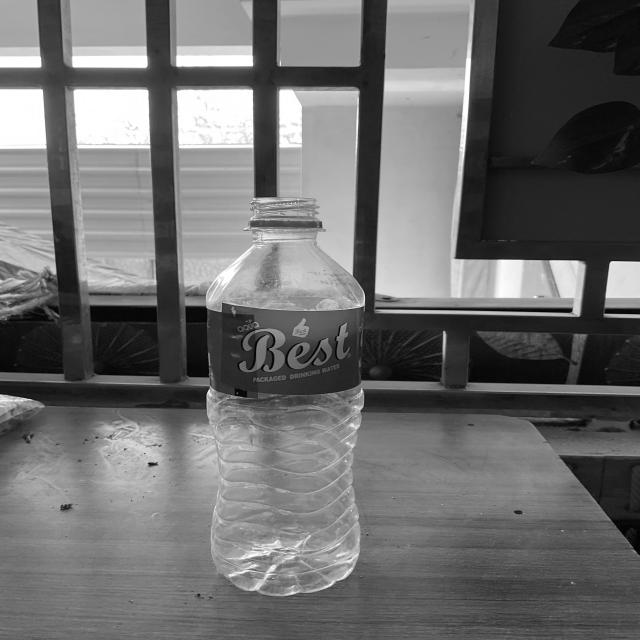open-cap: (246, 196, 322, 230)
